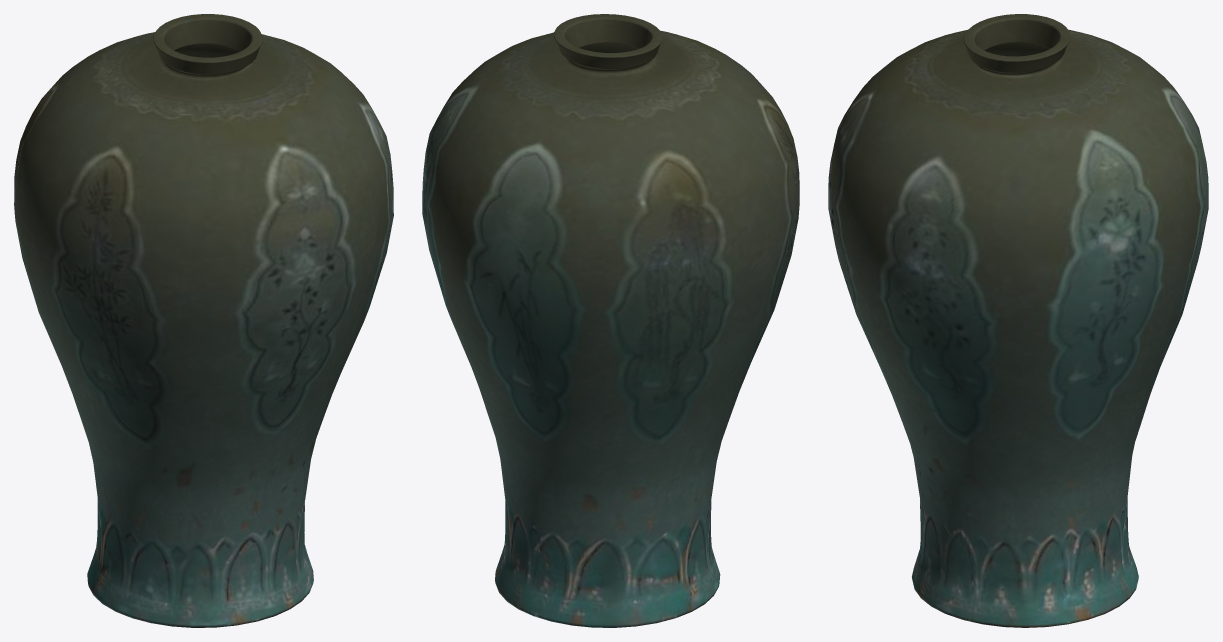
File: celadon.glb
3 renders of one model, left to right at view 1: azimuth 30°, elevation 25°; view 2: azimuth 150°, elevation 25°; view 3: azimuth 270°, elevation 25°, orthographic.
Parts seen in each view (by area): view 1: SM_Celadon_PorcelainB; view 2: SM_Celadon_PorcelainB; view 3: SM_Celadon_PorcelainB.
Part boxes in pixels (<box>): SM_Celadon_PorcelainB: <box>14,14,393,627</box>; SM_Celadon_PorcelainB: <box>422,14,799,627</box>; SM_Celadon_PorcelainB: <box>828,14,1208,627</box>.
Size of the model in its own units: 0.2431 by 0.3859 by 0.2431.
1 material, 1 textured.
